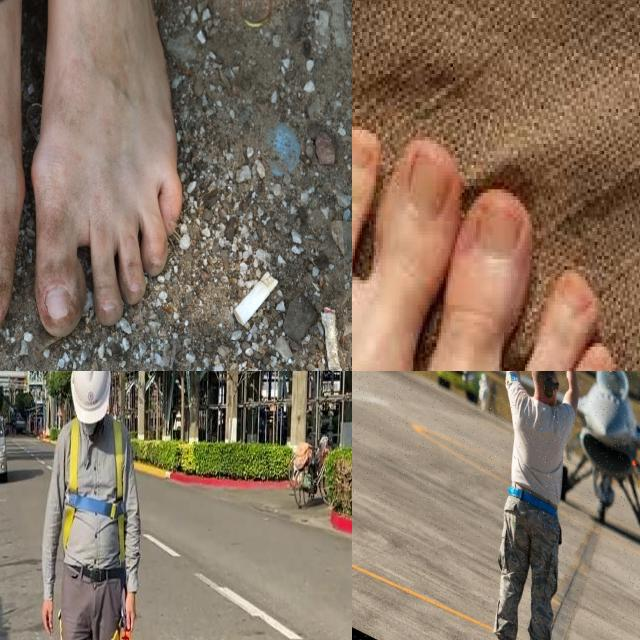Barefoots: (31, 0, 182, 338), (352, 84, 460, 371)
Ear-protection: (520, 371, 562, 402)
Harness: (63, 420, 124, 558)
head_nohelmet: (528, 371, 560, 391)
person: (493, 371, 580, 640)
